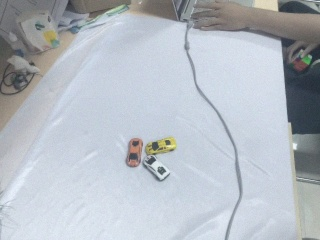box: (61, 1, 135, 14)
toy_car: (126, 137, 177, 181), (125, 138, 143, 167)
